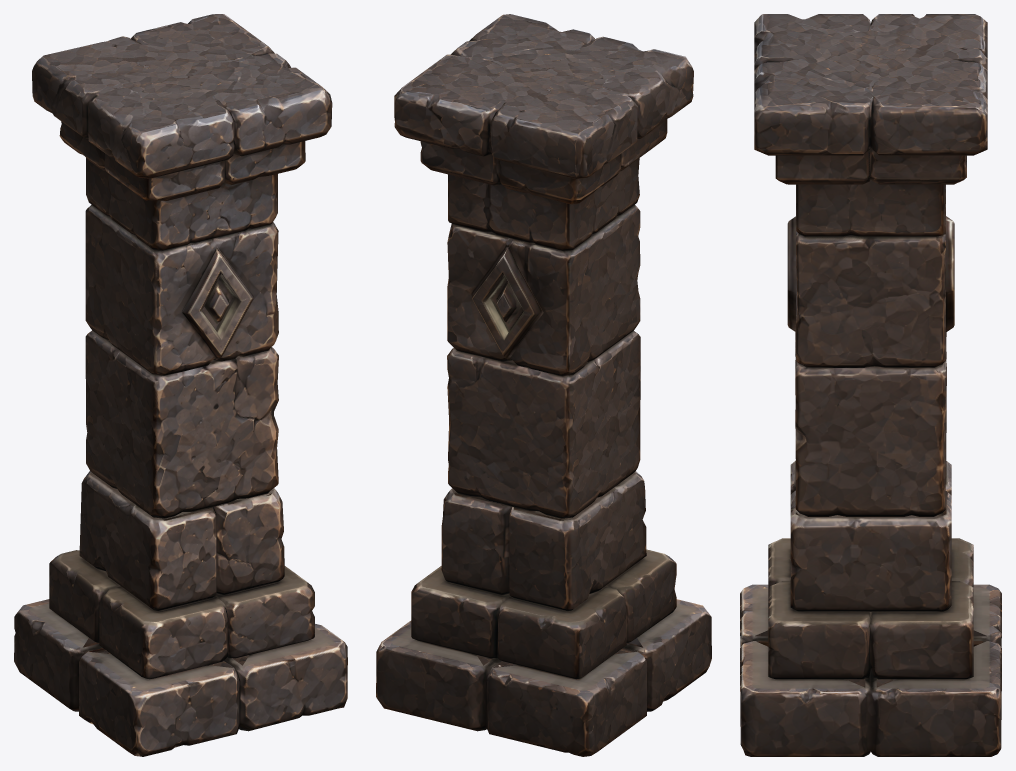
The model's file is stone+pillar+3d+model.fbx.
3 renders of one model, left to right at view 1: azimuth 30°, elevation 25°; view 2: azimuth 150°, elevation 25°; view 3: azimuth 270°, elevation 25°, orthographic. The views are drawn at different scales.
Parts seen in each view (by area): view 1: tripo_3b1386d1_9ec9_423d_b829_88fc9d8f2039; view 2: tripo_3b1386d1_9ec9_423d_b829_88fc9d8f2039; view 3: tripo_3b1386d1_9ec9_423d_b829_88fc9d8f2039.
Part boxes in pixels (left/top/right/bottom): tripo_3b1386d1_9ec9_423d_b829_88fc9d8f2039: left=14, top=14, right=347, bottom=756; tripo_3b1386d1_9ec9_423d_b829_88fc9d8f2039: left=376, top=14, right=711, bottom=756; tripo_3b1386d1_9ec9_423d_b829_88fc9d8f2039: left=740, top=14, right=1001, bottom=756.
Size of the model in its own units: 0.3687 by 0.9995 by 0.3687.
